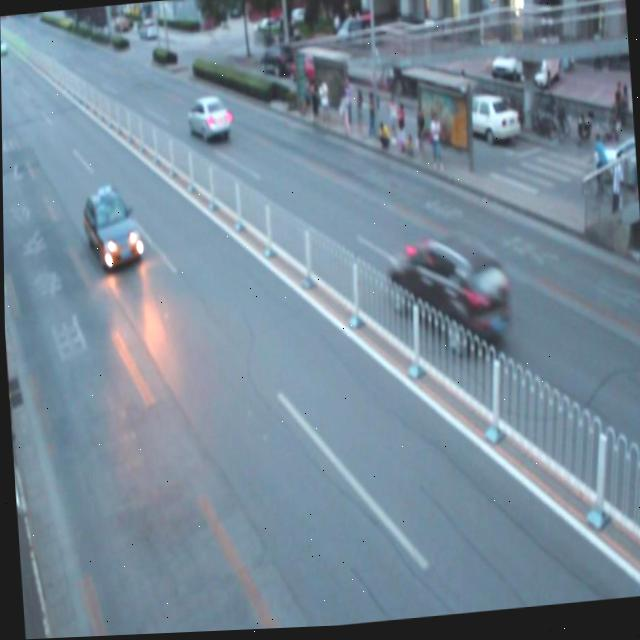car: (384, 230, 513, 363), (81, 182, 142, 276), (187, 93, 233, 148)
